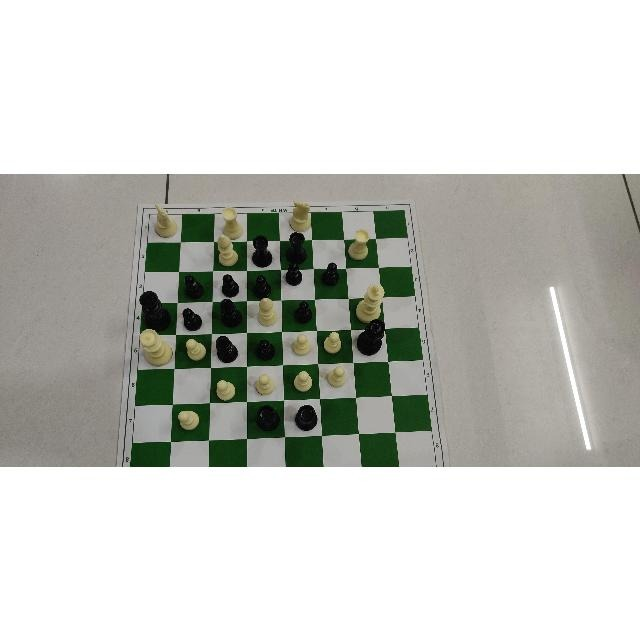black-bishop: (219, 298, 243, 327), (215, 335, 239, 363)
black-king: (139, 290, 171, 328)
black-pawn: (181, 272, 208, 298), (181, 303, 204, 331), (318, 259, 341, 287), (252, 273, 276, 297), (256, 335, 275, 365), (293, 299, 315, 322), (224, 271, 242, 299), (285, 262, 305, 285)
black-queen: (356, 318, 384, 355)
black-rook: (250, 235, 273, 266), (285, 232, 307, 262), (257, 404, 279, 432), (295, 404, 316, 429)
white-bishop: (215, 234, 238, 265), (258, 297, 277, 325)
white-king: (357, 283, 383, 323)
white-knight: (288, 198, 312, 231), (154, 204, 175, 237)
white-pawn: (320, 329, 344, 356), (214, 376, 236, 403), (184, 335, 206, 360), (174, 410, 197, 433), (292, 332, 312, 358), (256, 373, 277, 395), (293, 368, 313, 391), (327, 364, 348, 385)
white-queen: (140, 329, 171, 367)
white-rook: (350, 228, 370, 259), (222, 209, 243, 237)
